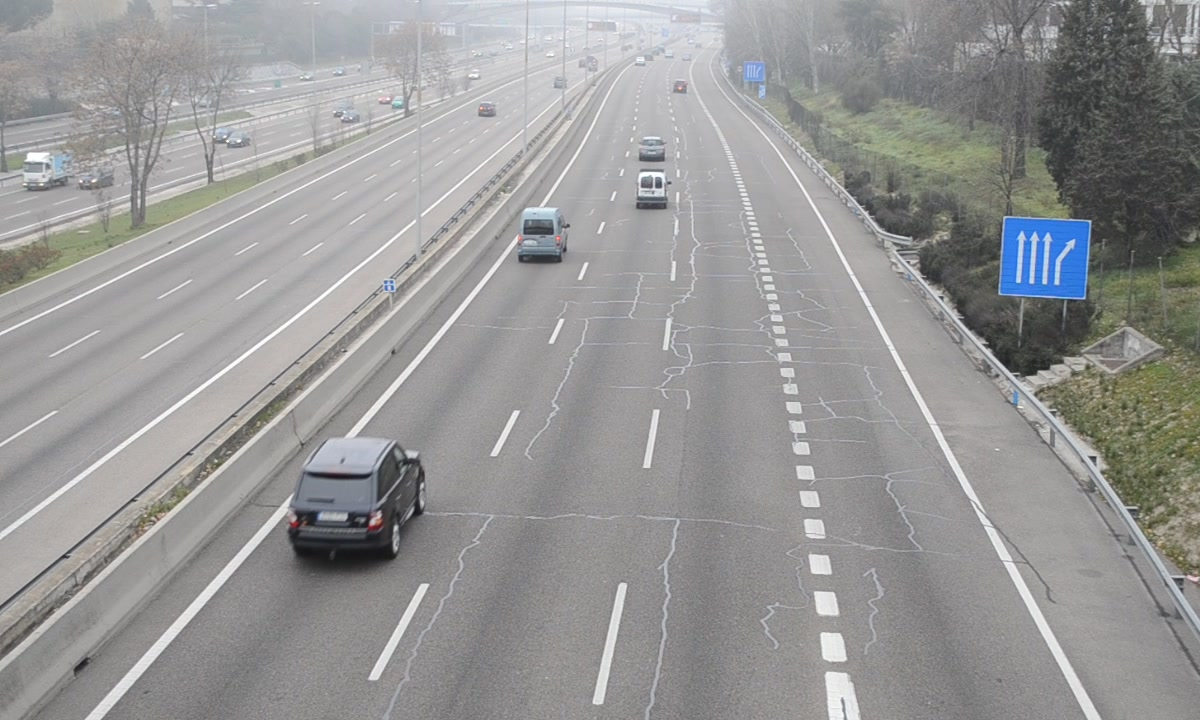car: (285, 438, 426, 549), (635, 135, 666, 162)
van: (518, 207, 568, 259), (635, 169, 666, 208)
